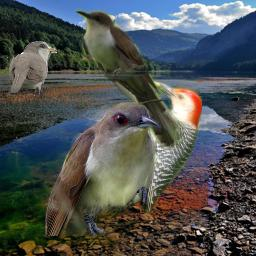Cuckoo: (74, 7, 183, 150), (45, 102, 161, 236), (7, 41, 57, 96)
Woodpecker: (98, 75, 202, 226)
